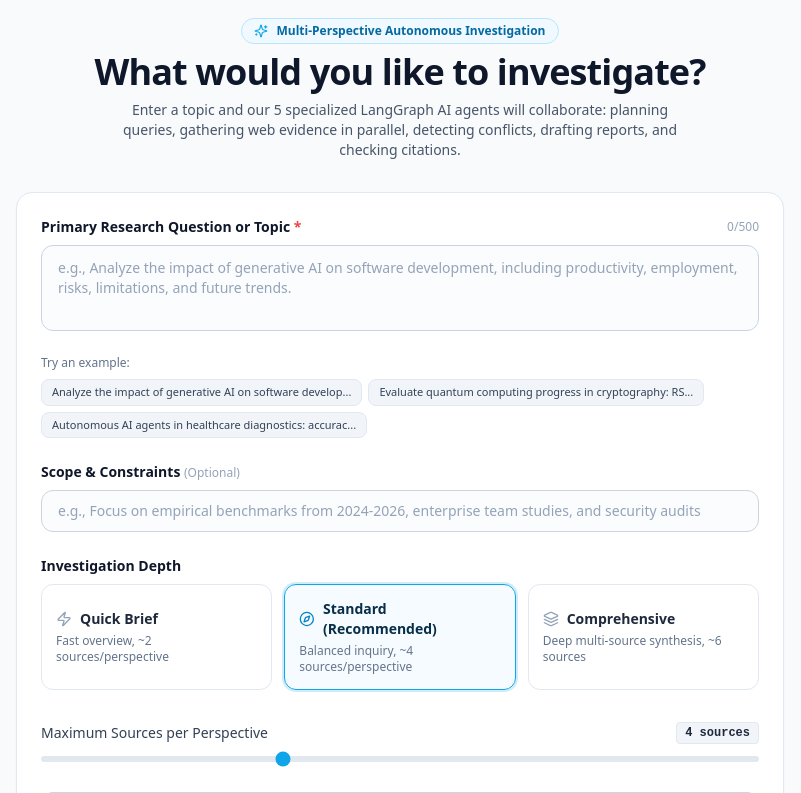
Test: ResearchForm Component › validates minimum topic length
Replace the text in the text box labelled "Primary Research Question or Topic *" with "ab": x=400, y=288 [41, 245, 759, 331]
(page scrolled)
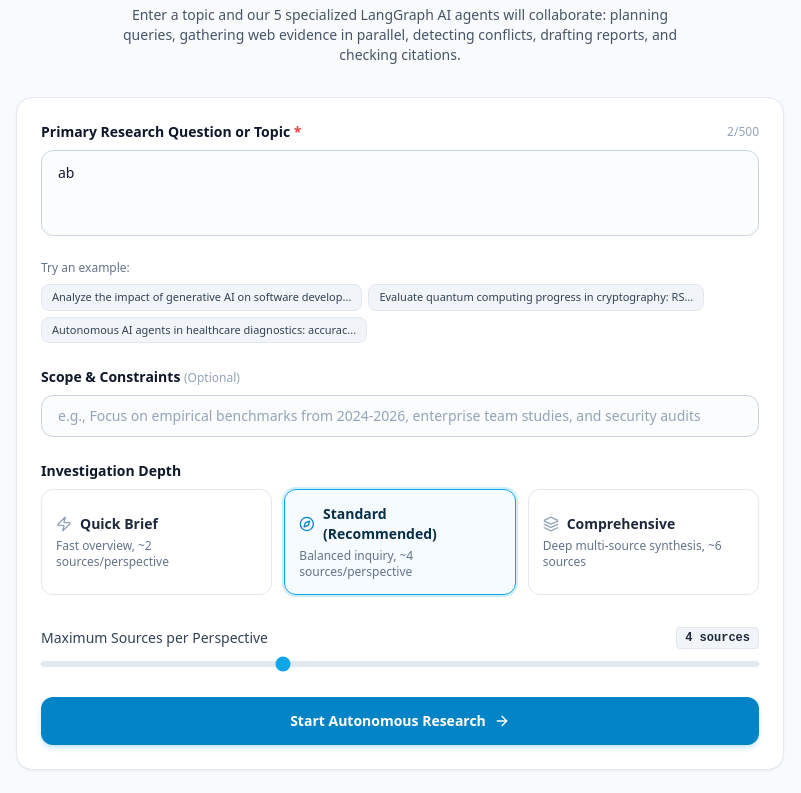
Click the button "Start Autonomous Research": x=400, y=721 [41, 697, 759, 745]
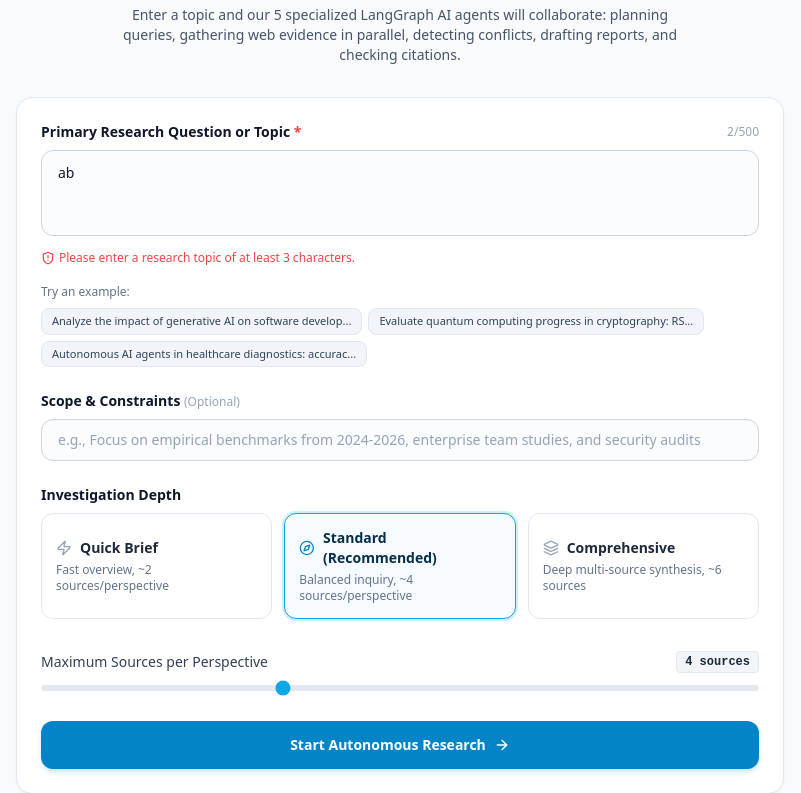
Result: the text "Please enter a research topic of at least 3 characters." is shown at [59, 250, 355, 266]
